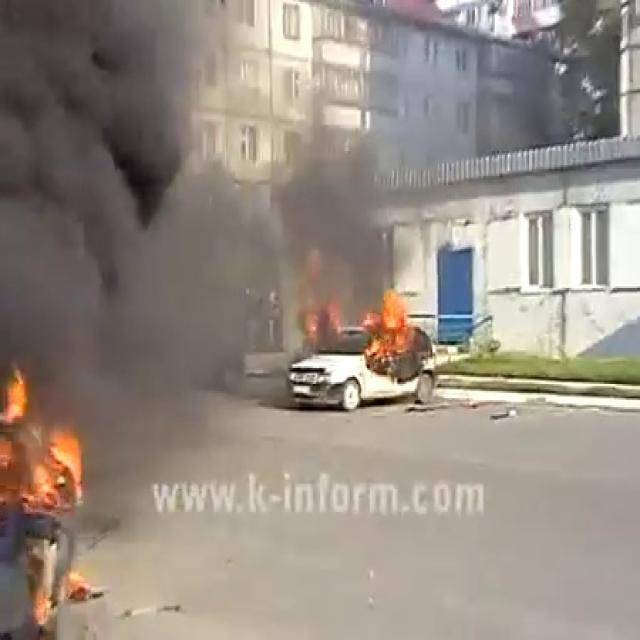Fire: (0, 372, 87, 518), (366, 280, 429, 364)
Smoke: (0, 0, 250, 452), (227, 84, 406, 337)
